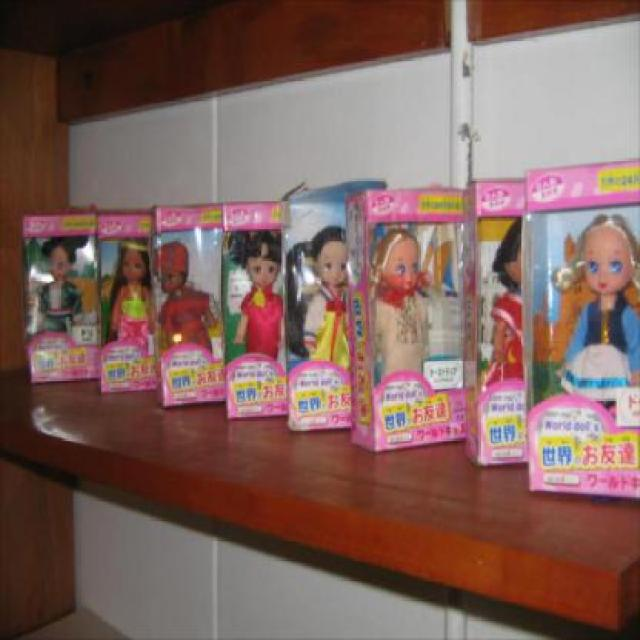Person: (553, 211, 639, 407), (366, 222, 434, 380), (284, 228, 351, 378), (474, 213, 526, 390), (152, 240, 223, 360), (234, 221, 286, 364), (31, 238, 94, 338), (105, 235, 153, 356)
